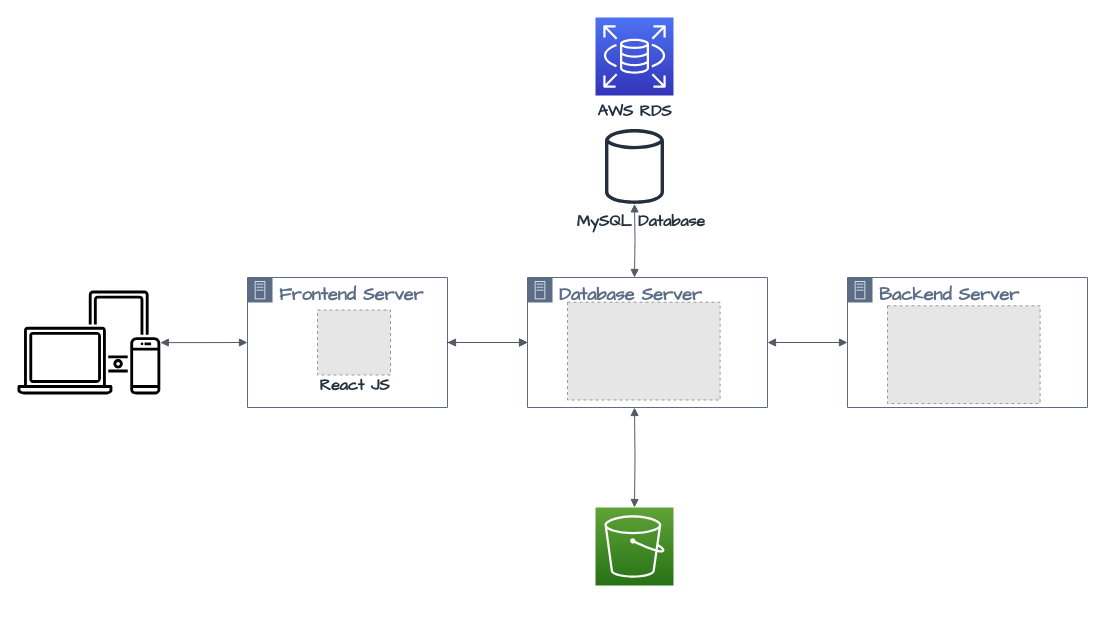
Image size: 1105x629. Some labels were removed from this diagram. Grey dashed boxes stand in for pictures. The box of each missing label's shape, as (x1, y1, x2, y2) in pixels:
AWS S3: (594, 506, 674, 586)
Client: (16, 289, 160, 395)
